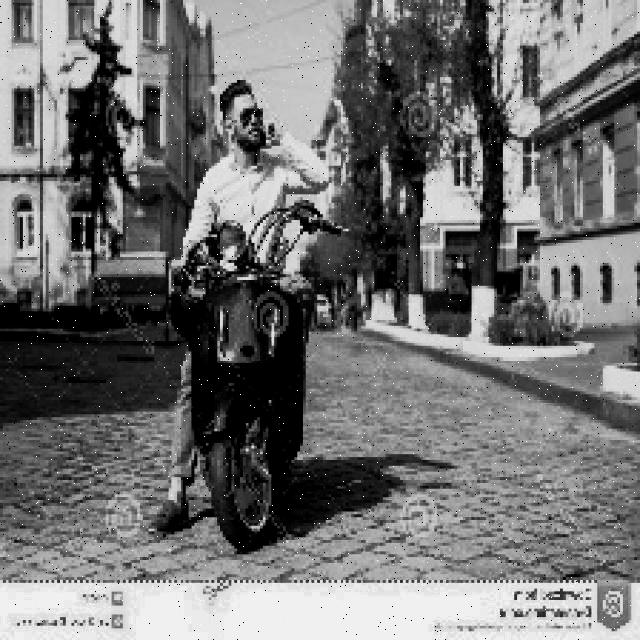Bike: (180, 248, 323, 549)
